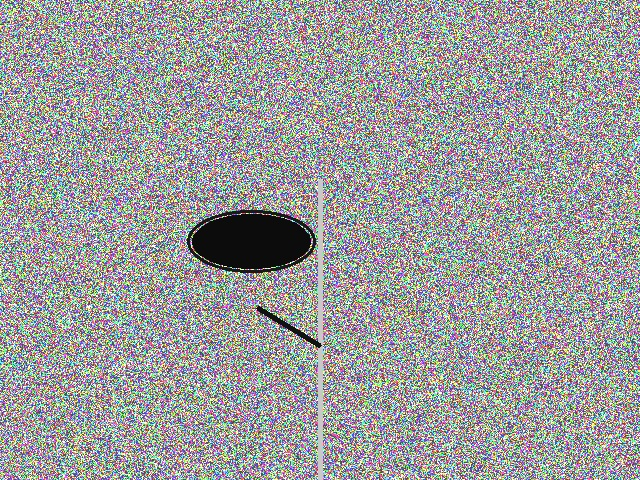crack: (252, 302, 325, 351)
pothole: (192, 214, 310, 268)
